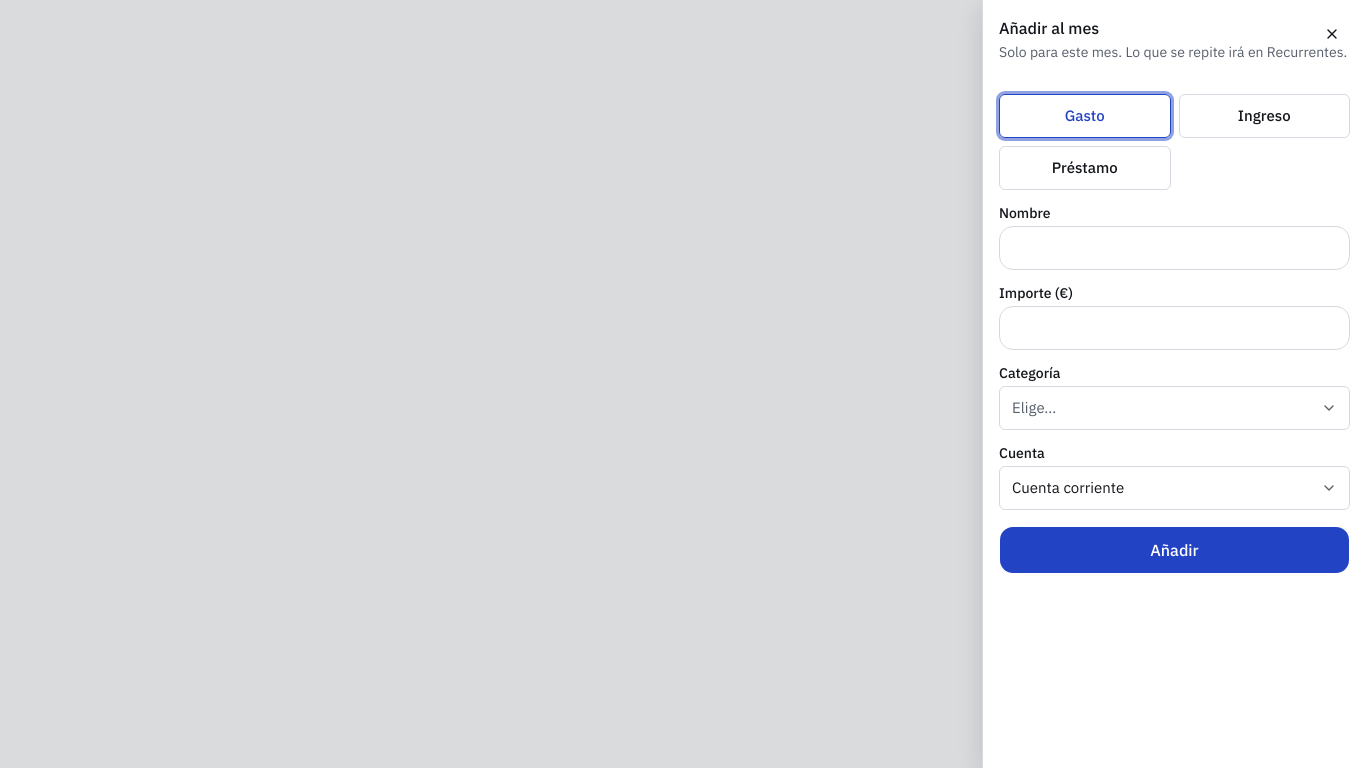
Scenario: AddEntrySheet modos › «Préstamo» pide a quién y el botón dice «Prestar»
What coordinates should you click on to do the following:
click the radio button labelled "Préstamo"
I would click on:
 (1085, 168)
Its box is [999,146,1170,190].
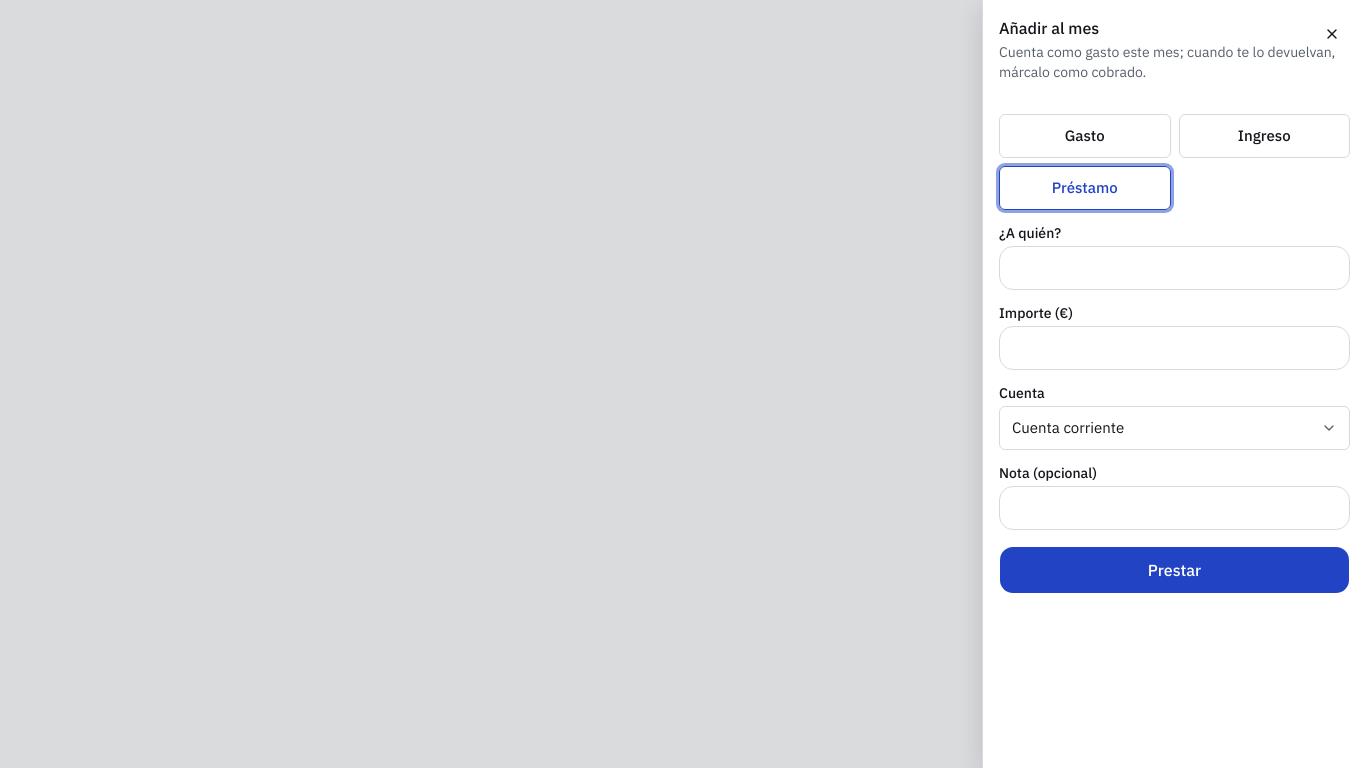
Now the field labelled "¿A quién?" is shown, box [999,246,1350,290]
Now the button "Prestar" is shown, box [999,546,1350,594]
